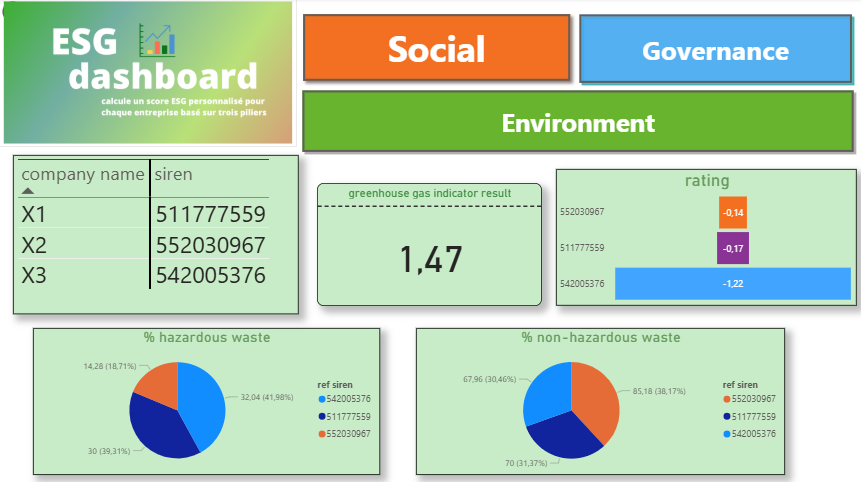

What the dashboard file says about the page in this screenshot:
{"tool":"powerbi","page":{"name":"environment","canvas":[1280,720],"ordinal":2},"visuals":[{"type":"actionButton","box":[0,0,100,40],"z":0},{"type":"actionButton","box":[435.6,14.2,408.9,115.6],"z":1000},{"type":"actionButton","box":[844.4,19.6,408.9,110.2],"z":2000},{"type":"pieChart","title":"% hazardous waste","fields":{"Category":["environnemnet.ref siren "],"Y":["Sum(environnemnet.% de dechets dangereux)"]},"box":[50,482.5,507.5,215],"z":3000},{"type":"pieChart","title":" % non-hazardous waste","fields":{"Category":["environnemnet.ref siren "],"Y":["Sum(environnemnet. %de dechets non dangereux )"]},"box":[610,482.5,540,215],"z":4000},{"type":"card","title":"greenhouse gas indicator result ","fields":{"Values":["Sum(environnemnet.resulatat GES)"]},"box":[465.7,270,328.6,180],"z":5000},{"type":"image","box":[0,0,436.7,218.3],"z":6000},{"type":"funnel","title":"  rating ","fields":{"Category":["environnemnet.ref siren "],"Y":["Sum(environnemnet.Classement)"]},"box":[815.1,250.2,440.5,200.5],"z":7000},{"type":"tableEx","fields":{"Values":["entreprise.nom d'entreprise","entreprise.     siren "]},"box":[20,230,417.5,232.5],"z":8000},{"type":"actionButton","box":[438.3,130,816.7,100],"z":9000},{"type":"qnaVisual","box":[1130,482.5,150,215],"z":9001}]}

Visuals, with their boxes in screenshot pixels (x1, y1, x2, y2), scaled from the page's 1280x720 canvas onto the 861x482 screenshot:
actionButton: detection(0, 0, 67, 27)
actionButton: detection(293, 10, 568, 87)
actionButton: detection(568, 13, 843, 87)
"% hazardous waste" pieChart: detection(34, 323, 375, 467)
" % non-hazardous waste" pieChart: detection(410, 323, 774, 467)
"greenhouse gas indicator result " card: detection(313, 181, 534, 301)
image: detection(0, 0, 294, 146)
"  rating " funnel: detection(548, 167, 845, 302)
tableEx - entreprise.nom d'entreprise x entreprise.     siren : detection(13, 154, 294, 310)
actionButton: detection(295, 87, 844, 154)
qnaVisual: detection(760, 323, 860, 467)
